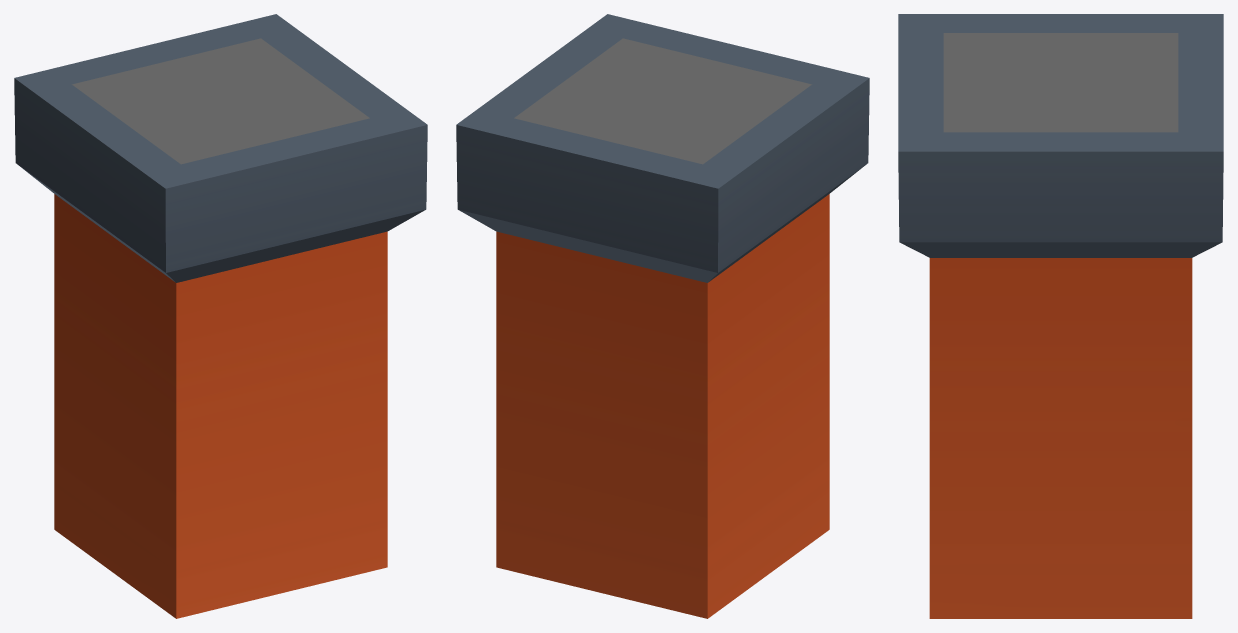
File: Chimney_2_B_1.glb
The picture shows the model from 3 angles, left to right: view 1: azimuth 30°, elevation 25°; view 2: azimuth 150°, elevation 25°; view 3: azimuth 270°, elevation 25°; orthographic projection. The views are drawn at different scales.
Parts seen in each view (by area): view 1: Chimney_2_B_1; view 2: Chimney_2_B_1; view 3: Chimney_2_B_1.
Part boxes in pixels (x1,y1,x2,y2): Chimney_2_B_1: [14, 14, 427, 618]; Chimney_2_B_1: [456, 14, 869, 618]; Chimney_2_B_1: [898, 14, 1223, 618].
Size of the model in its own units: 0.6329 by 1.03 by 0.6329.
Materials: 1 (1 with a texture image).
